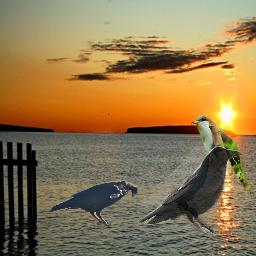Crow: (138, 146, 242, 233), (48, 180, 138, 227)
Cuckoo: (189, 115, 255, 194)
